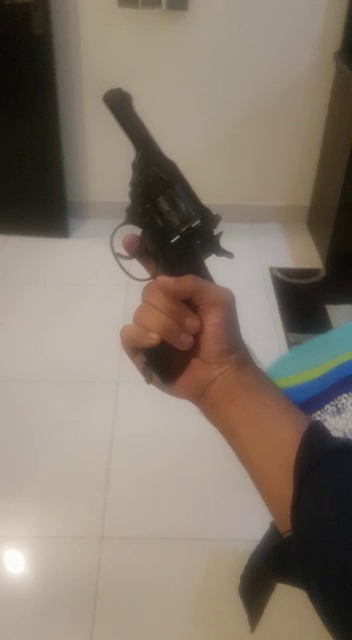handgun: (92, 84, 255, 441)
